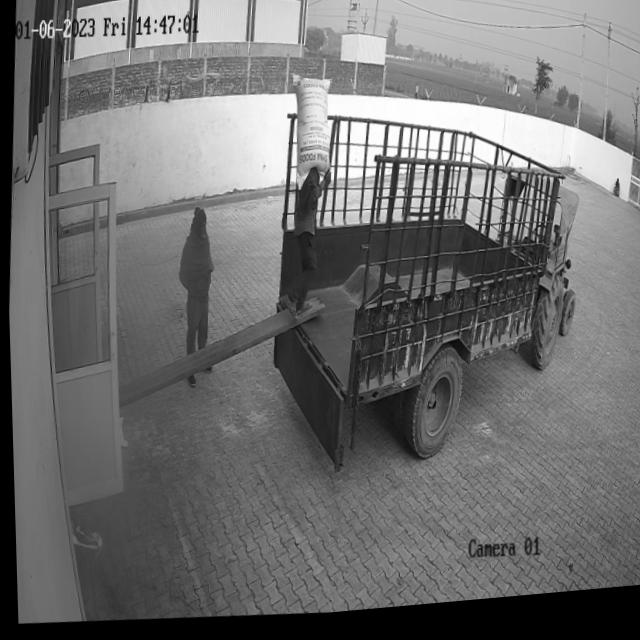sack: (286, 76, 335, 198)
